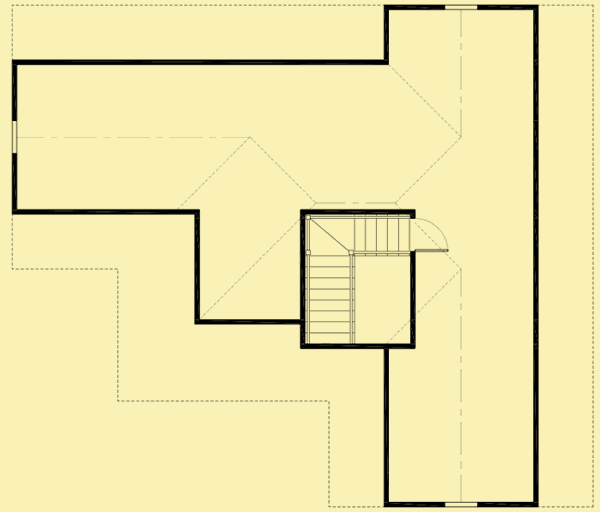door: (411, 213, 451, 253)
stairs: (304, 211, 411, 346)
